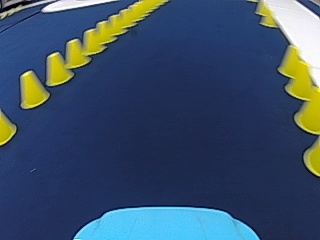cone: (279, 44, 316, 98), (292, 83, 319, 132), (18, 69, 50, 108), (276, 43, 304, 79), (44, 50, 72, 85), (63, 38, 88, 68), (303, 135, 319, 176), (85, 23, 108, 51), (81, 27, 102, 54), (1, 110, 16, 144), (92, 20, 111, 44), (105, 14, 123, 36)
